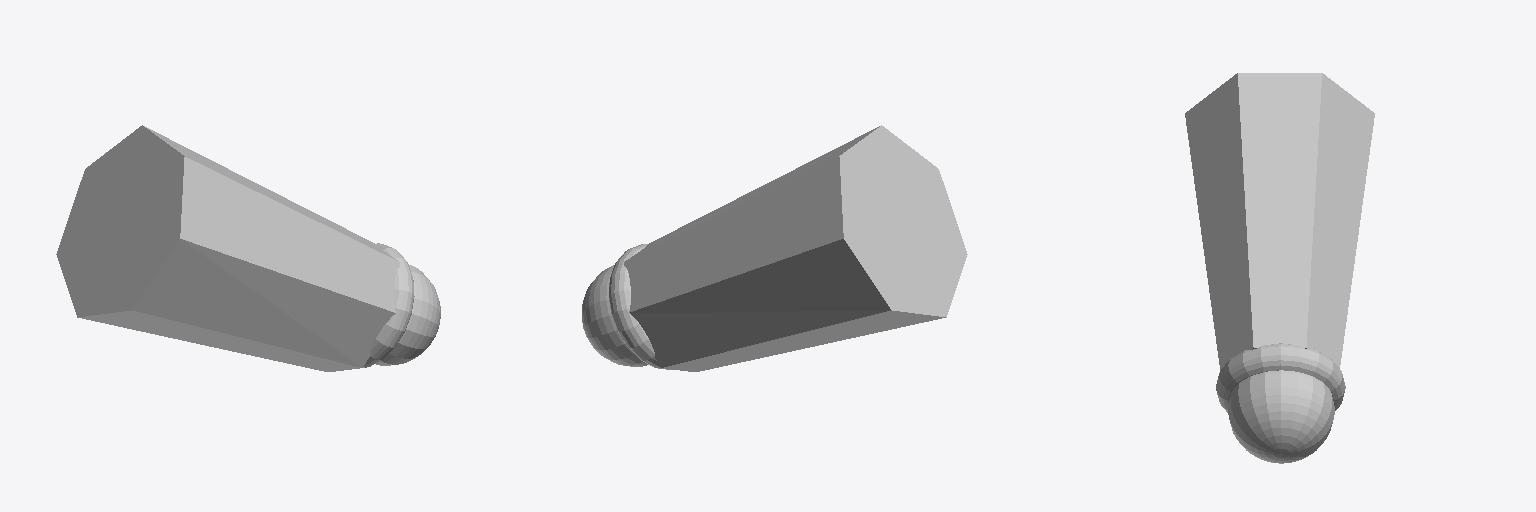
Rendered from rotatedObj.obj.
The picture shows the model from 3 angles: view 1: azimuth 30°, elevation 25°; view 2: azimuth 150°, elevation 25°; view 3: azimuth 270°, elevation 25°; orthographic projection.
Parts seen in each view (by area): view 1: pCylinder1, pSphere1, pTorus1; view 2: pCylinder1, pSphere1, pTorus1; view 3: pCylinder1, pSphere1, pTorus1.
Boxes of the visible parts, box(x1,y1,x2,y2) form: pCylinder1: box(56, 125, 399, 371); pSphere1: box(376, 265, 440, 365); pTorus1: box(359, 243, 414, 368); pCylinder1: box(624, 125, 967, 371); pSphere1: box(582, 265, 647, 366); pTorus1: box(609, 244, 671, 369); pCylinder1: box(1185, 73, 1374, 370); pSphere1: box(1228, 370, 1334, 463); pTorus1: box(1216, 343, 1345, 412).
Bounding box in the file's own units: 4.1 × 3.03 × 1.89.